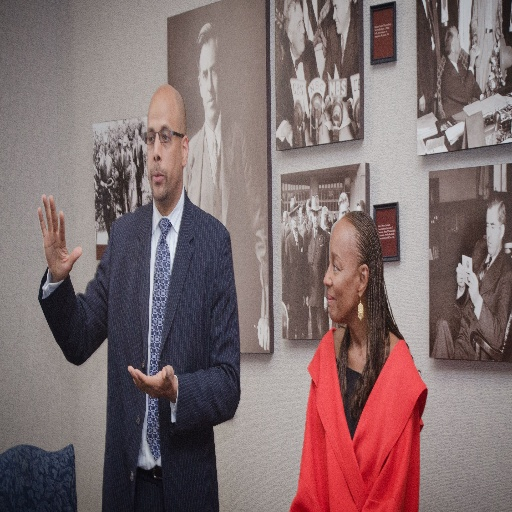hand: (36, 187, 85, 283), (125, 365, 176, 401), (255, 308, 270, 350), (466, 266, 479, 311), (455, 259, 468, 288), (468, 42, 481, 67), (284, 120, 295, 148), (322, 96, 331, 121), (304, 297, 310, 310), (323, 298, 328, 311)
